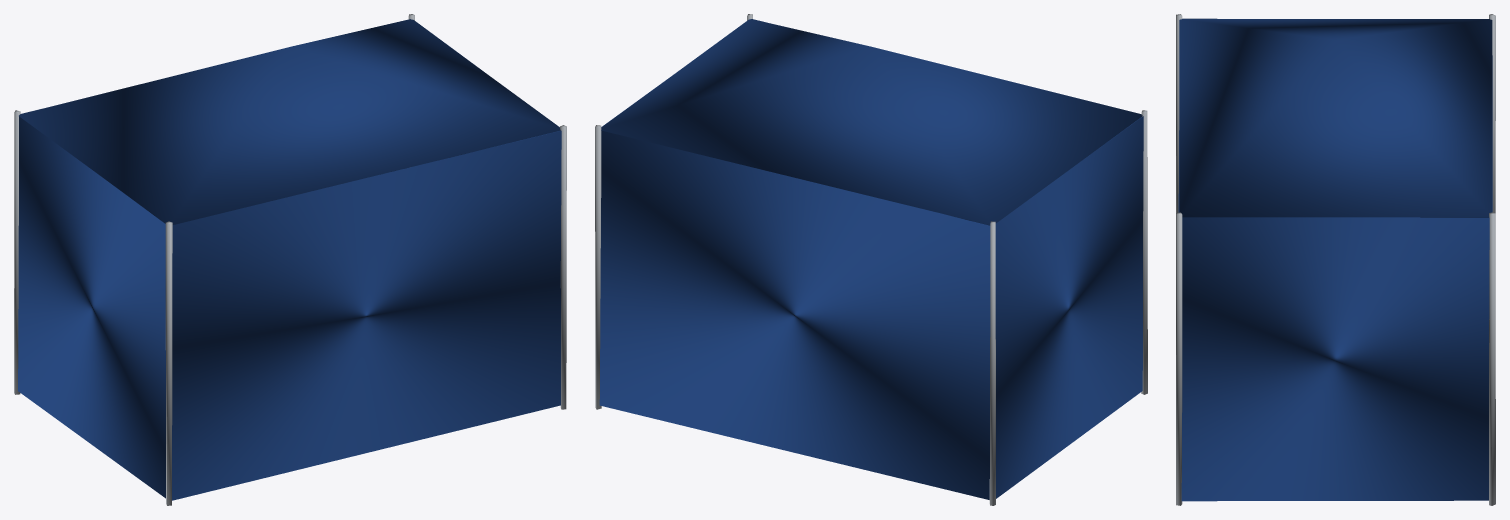
Rendered from medical_tent_lod1.glb.
The picture shows the model from 3 angles, left to right: view 1: azimuth 30°, elevation 25°; view 2: azimuth 150°, elevation 25°; view 3: azimuth 270°, elevation 25°; orthographic projection. The views are drawn at different scales.
Parts seen in each view (by area): view 1: medical_tent__tint_team_secondary, medical_tent__prop_steel; view 2: medical_tent__tint_team_secondary, medical_tent__prop_steel; view 3: medical_tent__tint_team_secondary, medical_tent__prop_steel.
Part boxes in pixels (<box>): medical_tent__tint_team_secondary: <box>18,19,561,500</box>; medical_tent__prop_steel: <box>14,14,566,505</box>; medical_tent__tint_team_secondary: <box>599,19,1143,499</box>; medical_tent__prop_steel: <box>595,14,1147,505</box>; medical_tent__tint_team_secondary: <box>1178,18,1492,501</box>; medical_tent__prop_steel: <box>1176,14,1495,505</box>.
Size of the model in its own units: 3.04 by 2.57 by 2.04.
